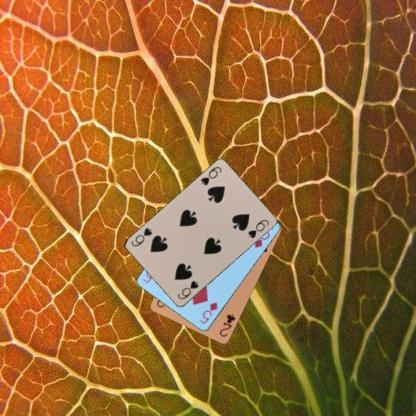2c: (217, 311, 237, 338)
5d: (197, 300, 219, 325)
6s: (175, 278, 200, 301), (198, 164, 223, 187)
